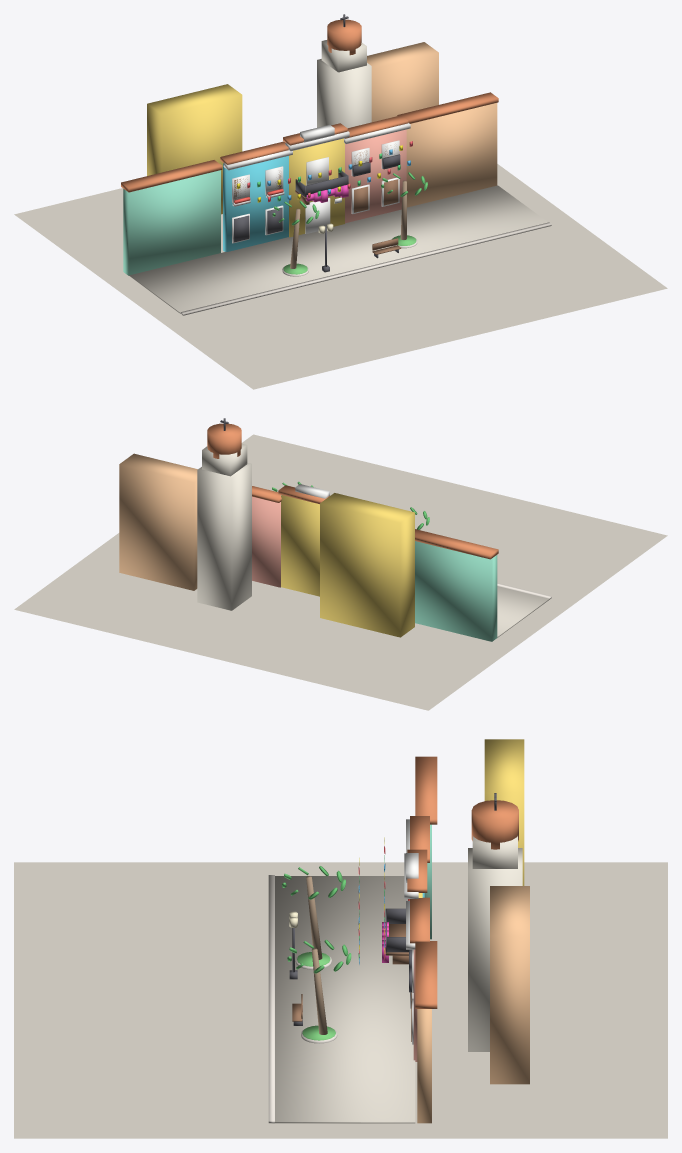
File: environment.glb
3 views of the same model, one above another, from view 1: azimuth 30°, elevation 25°; view 2: azimuth 150°, elevation 25°; view 3: azimuth 270°, elevation 25° (orthographic). The views are drawn at different scales.
Parts seen in each view (by area): view 1: Plaza_Ground, Plaza_Sidewalk, Facade_FarLeft, Facade_FarRight, Skyline_Block_L, Skyline_Block_R, Facade_Left_Wall, Church_Tower_Base, Facade_Right_Wall, Facade_Center_Wall, Plaza_Curb, FarLeft_Roof (+6 smaller); view 2: Plaza_Ground, Skyline_Block_L, Skyline_Block_R, Church_Tower_Base, Facade_FarLeft, Facade_Center_Wall, Facade_Right_Wall, Plaza_Sidewalk, Church_Cupola, FarLeft_Roof, Church_Belfry; view 3: Plaza_Ground, Plaza_Sidewalk, Skyline_Block_R, Church_Tower_Base, Skyline_Block_L, Church_Cupola, Plaza_Curb, Facade_FarRight, FarRight_Roof, FarLeft_Roof, Church_Belfry, Facade_Right_Roof (+3 smaller).
Boxes of the visible parts, x1=… form: Plaza_Ground: x1=14, y1=164, x2=667, y2=389; Plaza_Sidewalk: x1=129, y1=185, x2=548, y2=313; Facade_FarLeft: x1=123, y1=170, x2=220, y2=275; Facade_FarRight: x1=406, y1=103, x2=497, y2=207; Skyline_Block_L: x1=147, y1=84, x2=242, y2=214; Skyline_Block_R: x1=367, y1=42, x2=438, y2=122; Facade_Left_Wall: x1=223, y1=156, x2=288, y2=251; Church_Tower_Base: x1=317, y1=59, x2=371, y2=128; Facade_Right_Wall: x1=345, y1=129, x2=406, y2=223; Facade_Center_Wall: x1=289, y1=138, x2=344, y2=237; Plaza_Curb: x1=180, y1=222, x2=551, y2=315; FarLeft_Roof: x1=121, y1=160, x2=222, y2=192; Plaza_Ground: x1=14, y1=434, x2=667, y2=710; Skyline_Block_L: x1=320, y1=493, x2=414, y2=637; Skyline_Block_R: x1=119, y1=453, x2=197, y2=590; Church_Tower_Base: x1=197, y1=462, x2=251, y2=610; Facade_FarLeft: x1=415, y1=541, x2=497, y2=641; Facade_Center_Wall: x1=281, y1=495, x2=319, y2=596; Facade_Right_Wall: x1=252, y1=496, x2=280, y2=587; Plaza_Sidewalk: x1=497, y1=586, x2=549, y2=637; Church_Cupola: x1=207, y1=423, x2=241, y2=458; FarLeft_Roof: x1=415, y1=529, x2=498, y2=559; Church_Belfry: x1=202, y1=443, x2=247, y2=476; Plaza_Ground: x1=14, y1=862, x2=667, y2=1138; Plaza_Sidewalk: x1=274, y1=876, x2=415, y2=1123; Skyline_Block_R: x1=490, y1=886, x2=529, y2=1084; Church_Tower_Base: x1=468, y1=848, x2=522, y2=1051; Skyline_Block_L: x1=484, y1=739, x2=524, y2=885; Church_Cupola: x1=471, y1=800, x2=518, y2=849; Plaza_Curb: x1=268, y1=875, x2=274, y2=1123; Facade_FarRight: x1=417, y1=1009, x2=431, y2=1123; FarRight_Roof: x1=415, y1=941, x2=437, y2=1008; FarLeft_Roof: x1=415, y1=756, x2=437, y2=824; Church_Belfry: x1=472, y1=835, x2=517, y2=868; Facade_Right_Roof: x1=410, y1=897, x2=429, y2=943.
Bounding box in the file's own units: 36 × 15 × 36.
